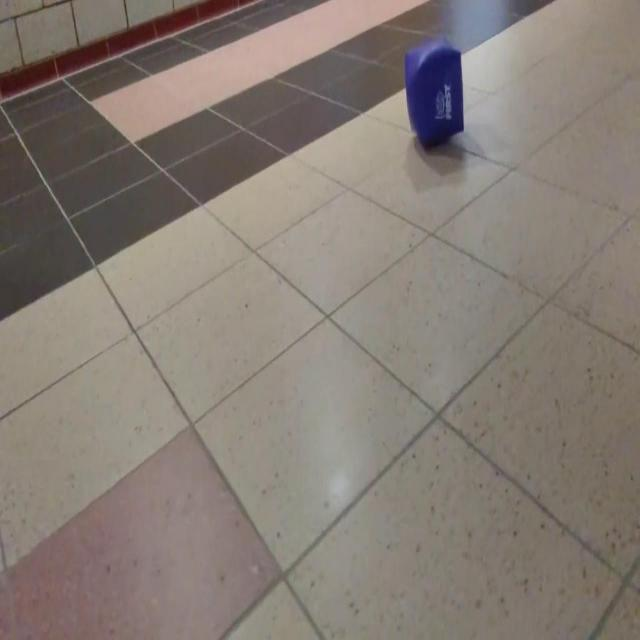frc_cube: (404, 39, 464, 150)
